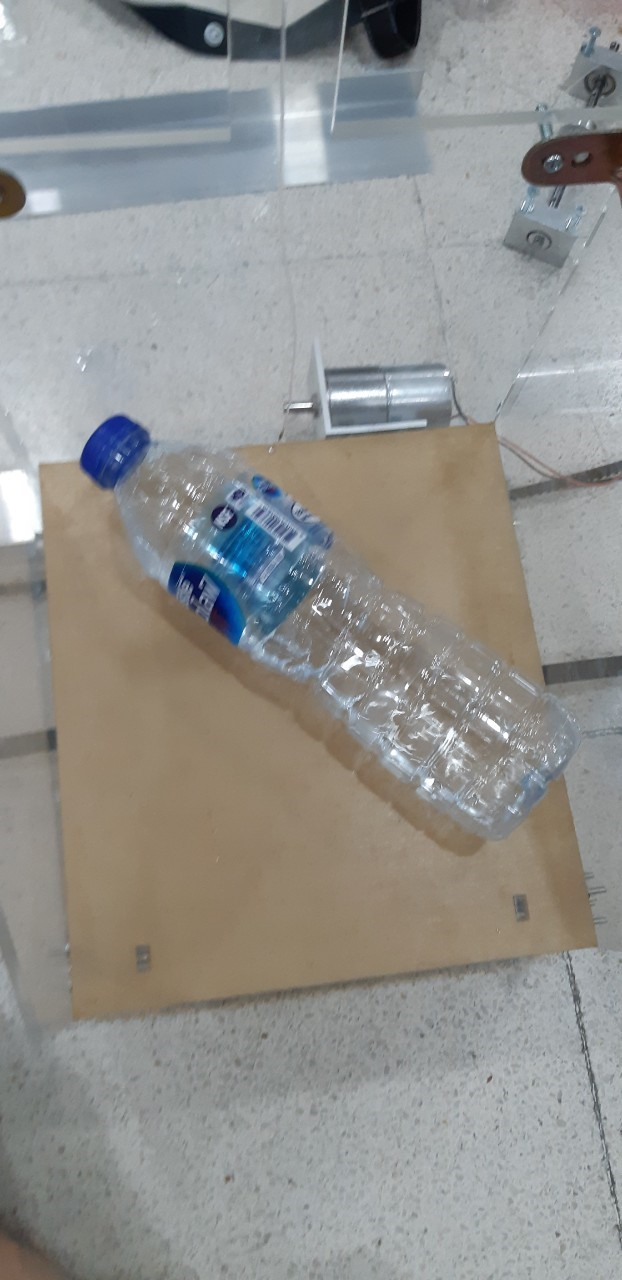PlasticBottle: (84, 417, 576, 835)
